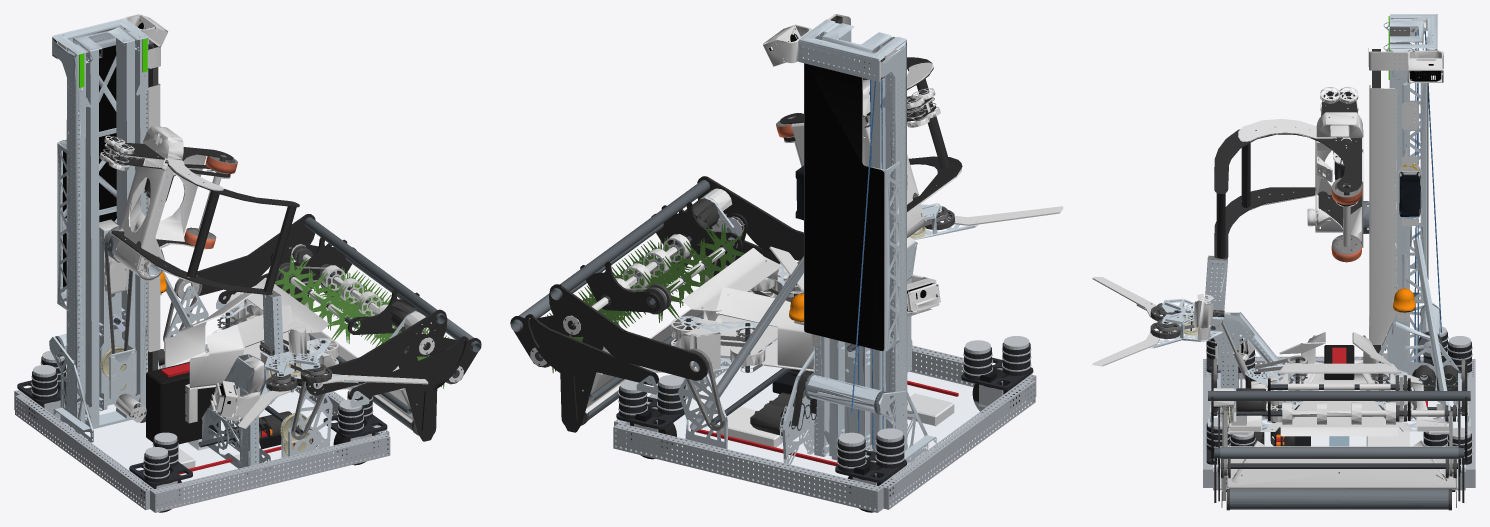
3 renders of one model, left to right at view 1: azimuth 30°, elevation 25°; view 2: azimuth 150°, elevation 25°; view 3: azimuth 270°, elevation 25°, orthographic. The views are drawn at different scales.
Visible parts, largest first — view 1: body.mat_0, body.mat_55, stage.mat_2, body.mat_2, rail.002, body.mat_20, stage.mat_55, belly, rail.001, battery, stage.mat_0, body.mat_52 (+19 smaller); view 2: body.mat_0, stage.mat_19, body.mat_55, body.mat_2, rail, belly, rail.001, body.mat_20, body.mat_52, stage.mat_0, body.mat_54, stage.mat_2 (+20 smaller); view 3: body.mat_2, body.mat_0, stage.mat_2, body.mat_32, stage.mat_55, body.mat_54, stage.mat_0, body.mat_30, body._, body.mat_20, body.mat_55, body.mat_34 (+14 smaller).
Boxes of the visible parts, x1,y1,x2,y2 form: body.mat_0: [49, 18, 423, 474]; body.mat_55: [177, 214, 481, 441]; stage.mat_2: [104, 37, 223, 352]; body.mat_2: [52, 14, 435, 460]; rail.002: [150, 433, 390, 512]; body.mat_20: [164, 244, 463, 418]; stage.mat_55: [103, 142, 299, 295]; belly: [21, 390, 383, 509]; rail.001: [15, 394, 154, 510]; battery: [146, 362, 218, 444]; stage.mat_0: [57, 38, 147, 423]; body.mat_52: [275, 255, 448, 388]; body.mat_0: [636, 19, 978, 476]; stage.mat_19: [804, 63, 884, 350]; body.mat_55: [510, 176, 803, 432]; body.mat_2: [582, 24, 1063, 451]; rail: [613, 423, 883, 512]; belly: [621, 351, 1025, 509]; rail.001: [879, 378, 1035, 509]; body.mat_20: [530, 214, 814, 371]; body.mat_52: [547, 222, 744, 372]; stage.mat_0: [804, 54, 900, 454]; body.mat_54: [510, 180, 709, 401]; stage.mat_2: [791, 14, 961, 237]; body.mat_2: [1092, 18, 1458, 489]; body.mat_0: [1136, 14, 1470, 431]; stage.mat_2: [1238, 48, 1407, 344]; body.mat_32: [1220, 304, 1458, 509]; stage.mat_55: [1214, 92, 1361, 259]; body.mat_54: [1208, 391, 1470, 472]; stage.mat_0: [1402, 37, 1427, 303]; body.mat_30: [1163, 292, 1467, 468]; body._: [1193, 294, 1413, 424]; body.mat_20: [1210, 171, 1468, 474]; body.mat_55: [1211, 361, 1467, 502]; body.mat_34: [1157, 304, 1452, 500].
Bounding box in the file's own units: 0.9521 × 1.06 × 0.9641.
46 materials, 1 textured.
